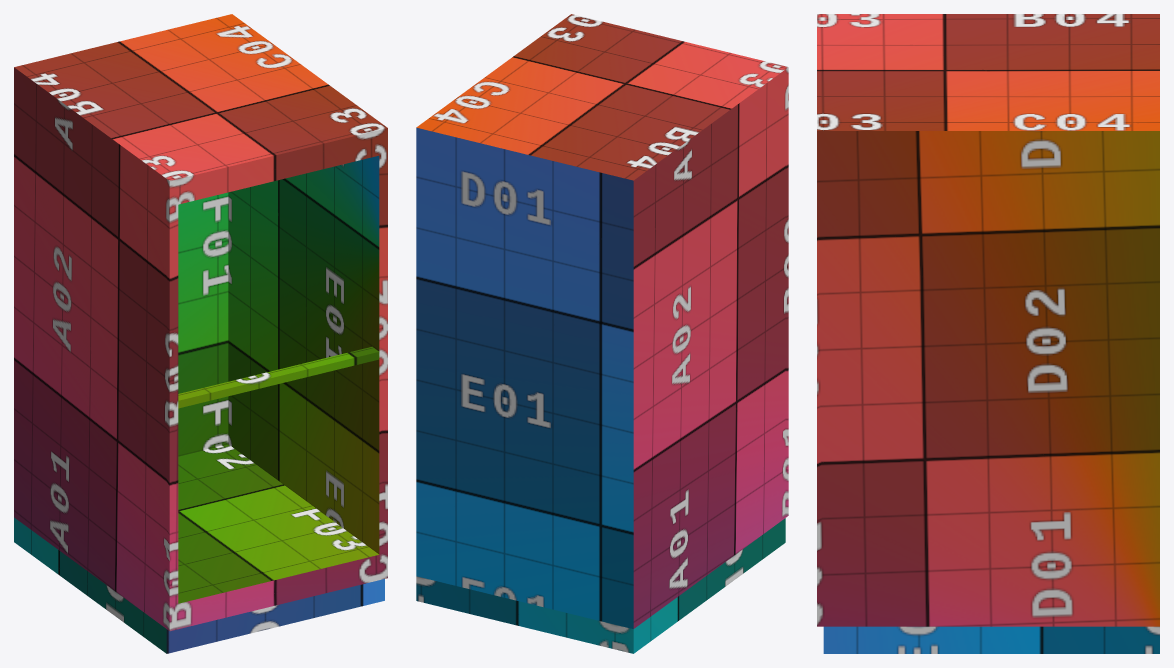
Rendered from Lockeraa_low.fbx.
3 views of the same model, side by side, from view 1: azimuth 30°, elevation 25°; view 2: azimuth 150°, elevation 25°; view 3: azimuth 270°, elevation 25° (orthographic). The views are drawn at different scales.
Parts seen in each view (by area): view 1: Lockera_low; view 2: Lockera_low; view 3: Lockera_low.
Boxes of the visible parts, x1,y1,x2,y2 form: Lockera_low: (14,14,387,653); Lockera_low: (416,14,788,653); Lockera_low: (817,14,1159,653).
Size of the model in its own units: 41.23 by 85.79 by 50.99.
